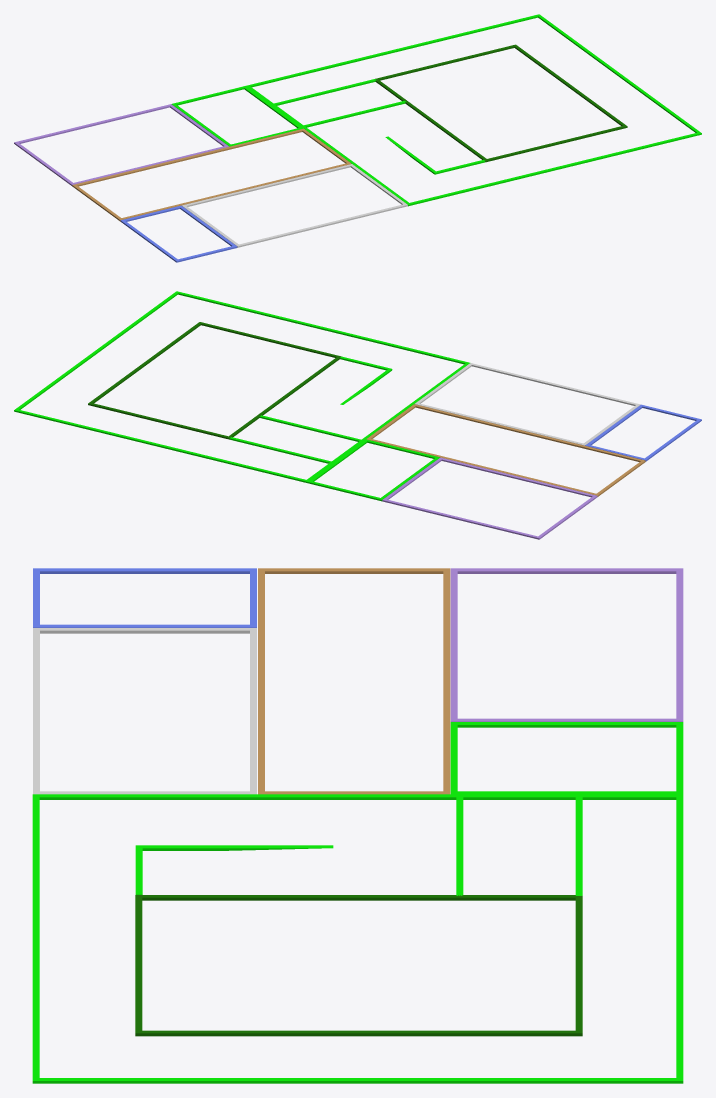
The model's file is PL_LBVR_Map_v08_WalkableAreas.fbx.
3 views of the same model, one above another, from view 1: azimuth 30°, elevation 25°; view 2: azimuth 150°, elevation 25°; view 3: azimuth 270°, elevation 25° (orthographic). The views are drawn at different scales.
Parts seen in each view (by area): view 1: Cube.005, Cube.006, Cube.002, Cube.001, Cube.003, Cube, Cube.004; view 2: Cube.005, Cube.006, Cube.002, Cube.003, Cube.001, Cube.004, Cube; view 3: Cube.005, Cube.006, Cube.002, Cube.003, Cube.001, Cube.004, Cube, Cube.010, Cube.008, Cube.101.
Part boxes in pixels (<box>): Cube.005: <box>246,14,701,206</box>; Cube.006: <box>375,44,627,162</box>; Cube.002: <box>72,128,351,221</box>; Cube.001: <box>181,164,407,247</box>; Cube.003: <box>14,104,228,185</box>; Cube: <box>120,205,237,262</box>; Cube.004: <box>171,86,303,146</box>; Cube.005: <box>14,291,469,483</box>; Cube.006: <box>88,322,341,439</box>; Cube.002: <box>366,404,645,496</box>; Cube.003: <box>382,457,597,539</box>; Cube.001: <box>414,363,640,445</box>; Cube.004: <box>308,439,439,501</box>; Cube: <box>585,404,701,461</box>; Cube.005: <box>32,794,683,1083</box>; Cube.006: <box>135,895,582,1036</box>; Cube.002: <box>258,568,450,794</box>; Cube.003: <box>450,568,683,721</box>; Cube.001: <box>33,628,256,794</box>; Cube.004: <box>450,722,683,794</box>; Cube: <box>33,568,256,627</box>; Cube.010: <box>138,845,333,850</box>; Cube.008: <box>575,797,582,895</box>; Cube.101: <box>456,796,463,895</box>.
Bounding box in the file's own units: 1728 × 4.36 × 927.
